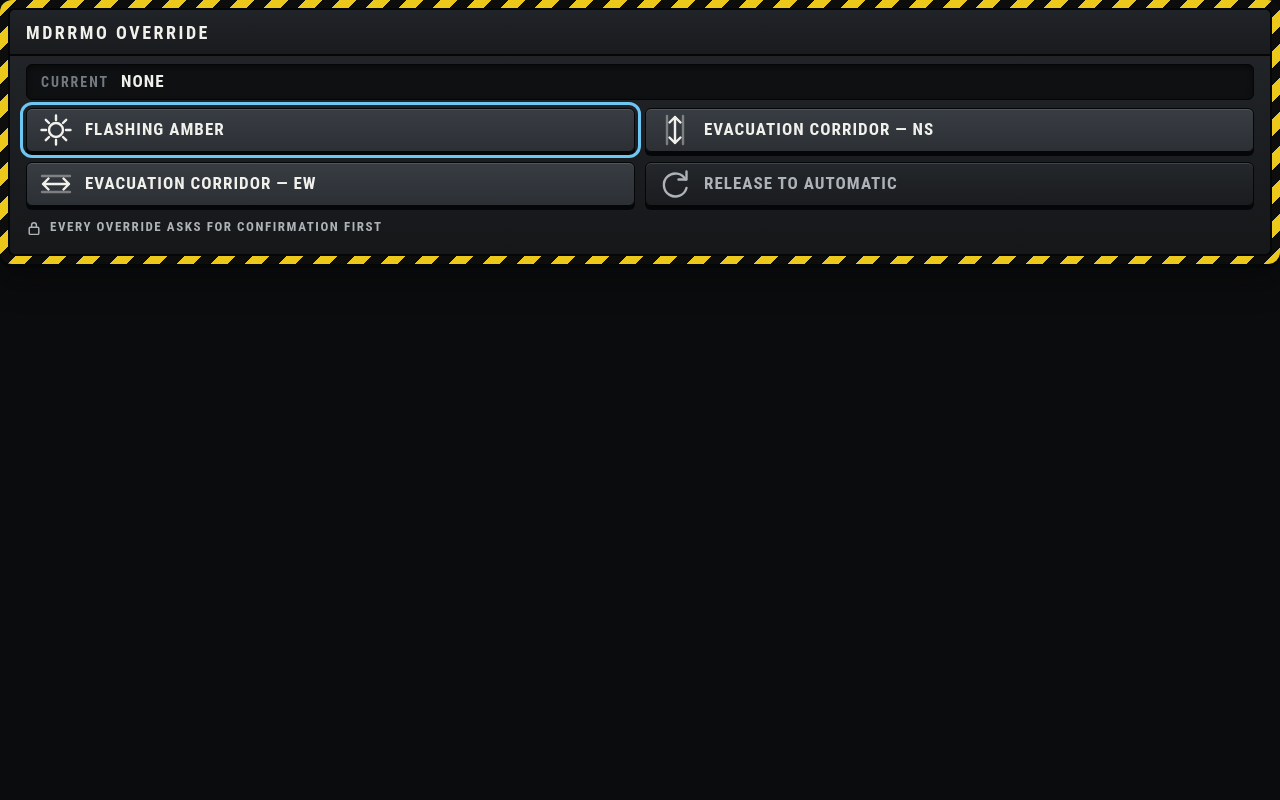
it: flashing amber and release send their own bodies
The image size is (1280, 800).
Click the button "Flashing amber". click: [56, 130]
box: [26,108,635,152]
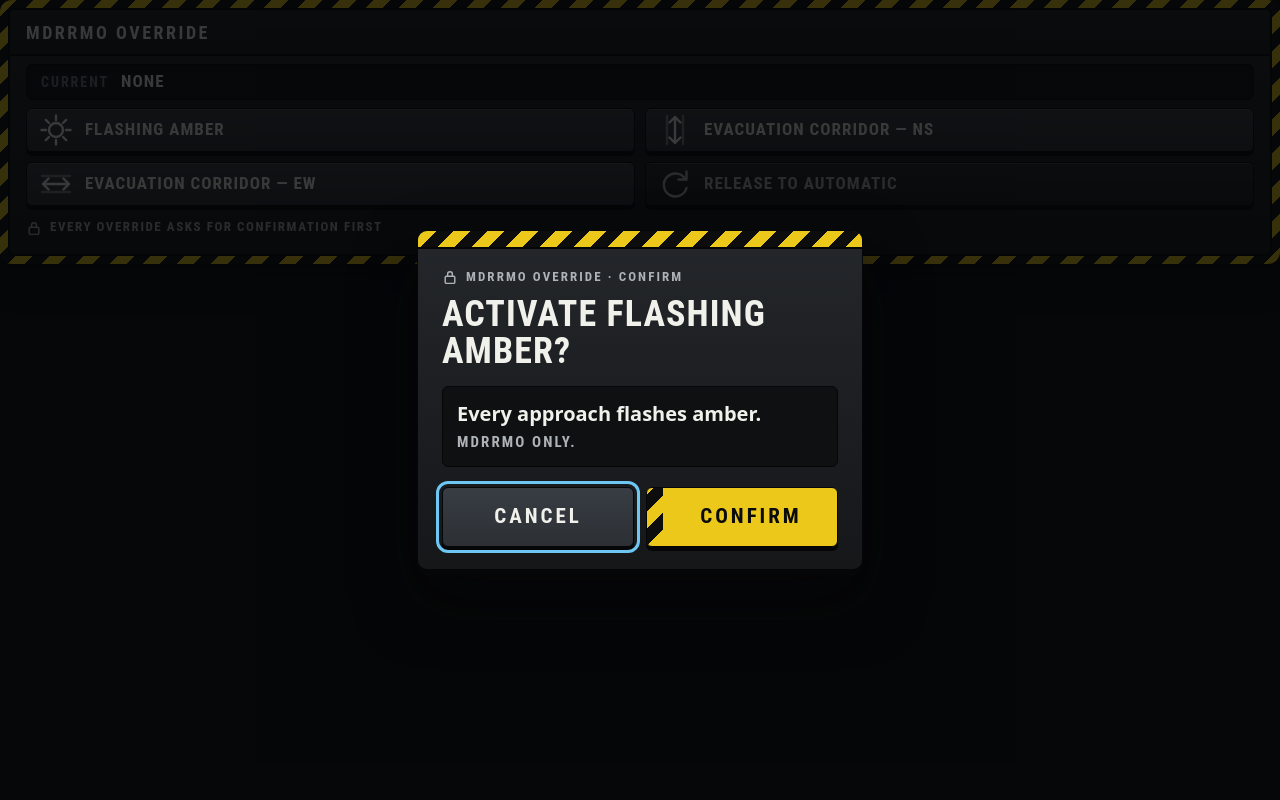
Click the button "Confirm". click: [742, 517]
box: [646,487,838,547]
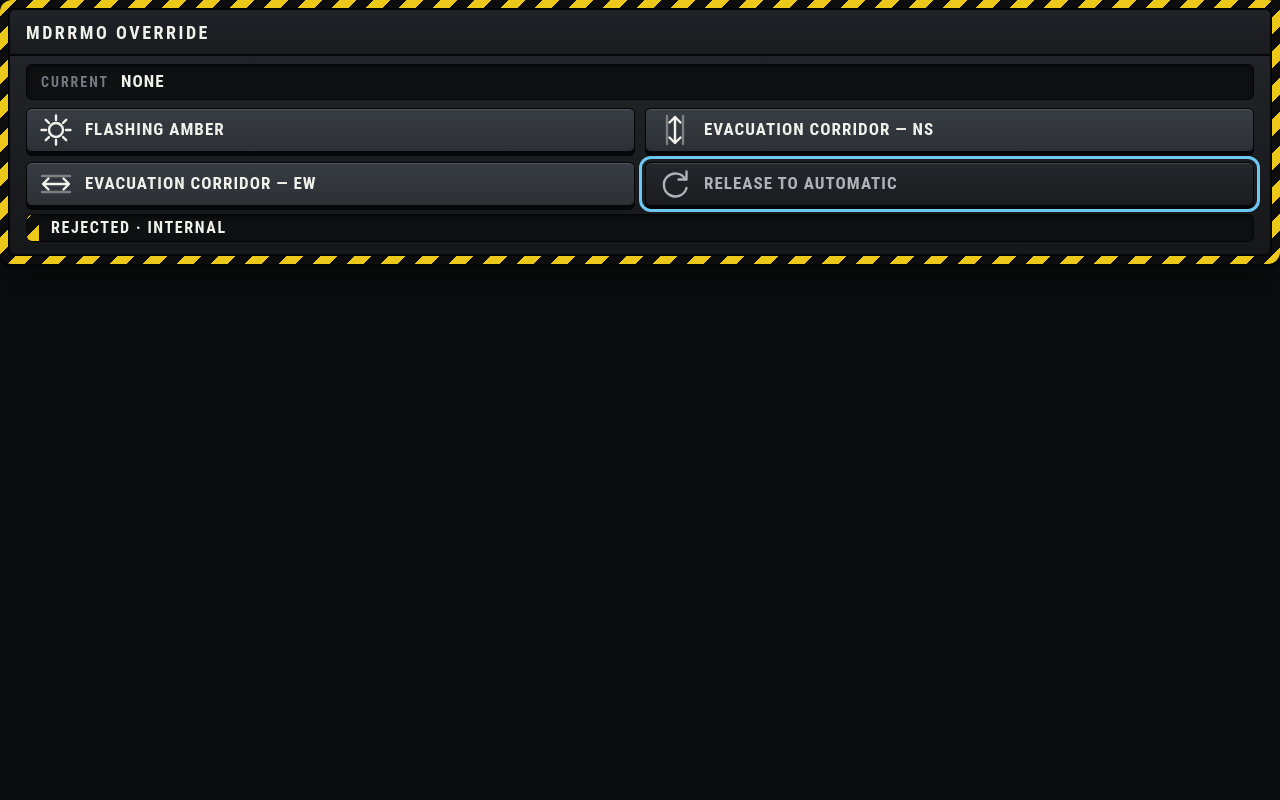
expect the dialog is gone: met
Click the button "Release to automatic". click: [675, 184]
box: [645,162,1254,206]
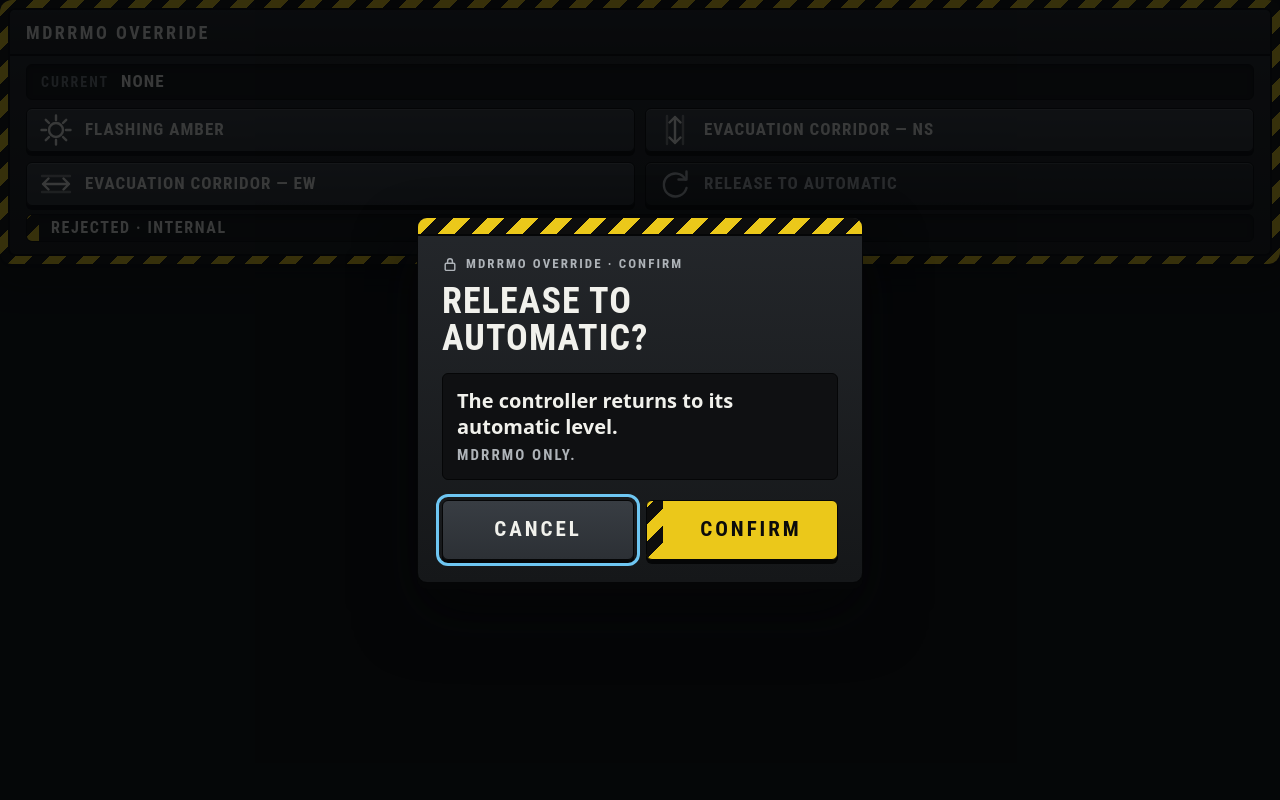
Click the button "Confirm". click: [742, 530]
box: [646,500,838,560]
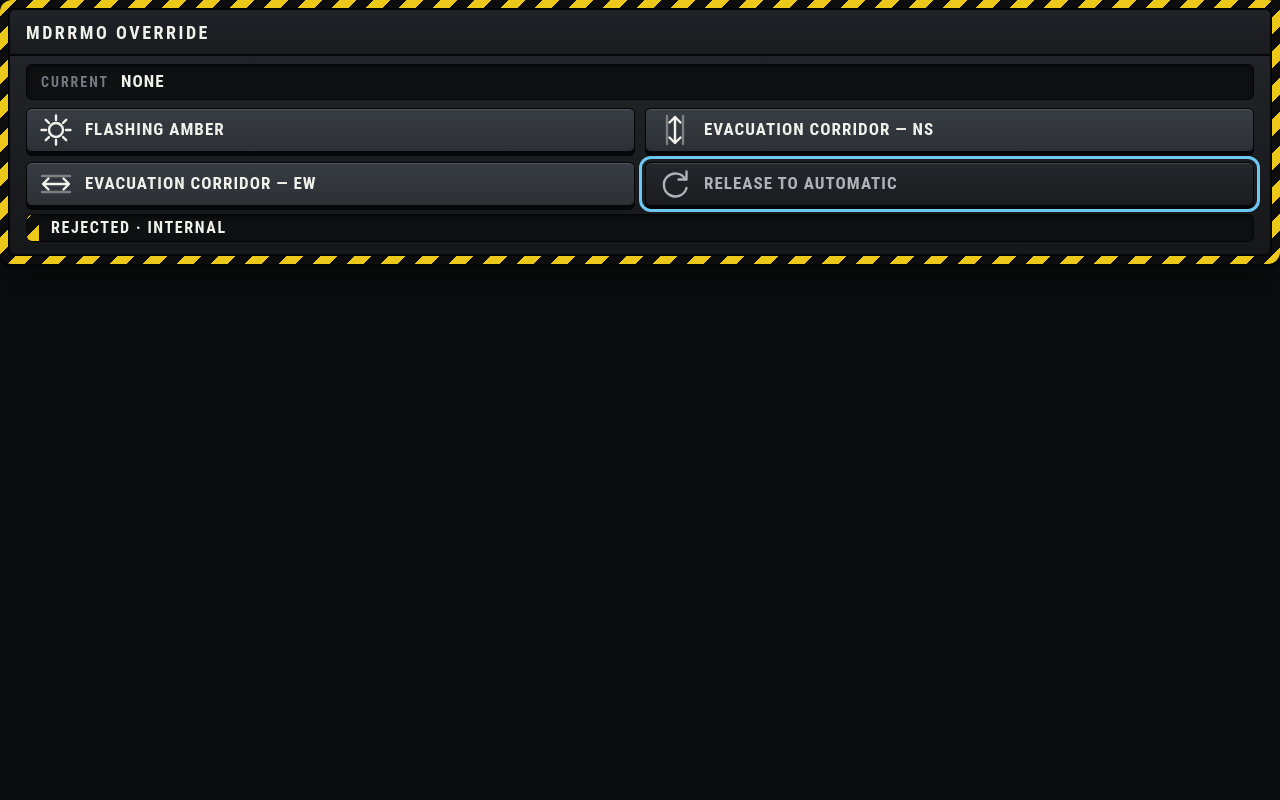
expect the dialog is gone: met
